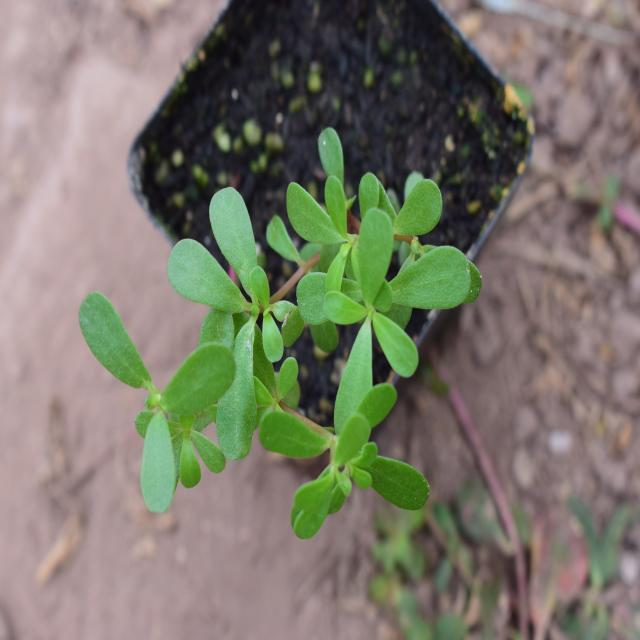purslane: (79, 138, 480, 530)
